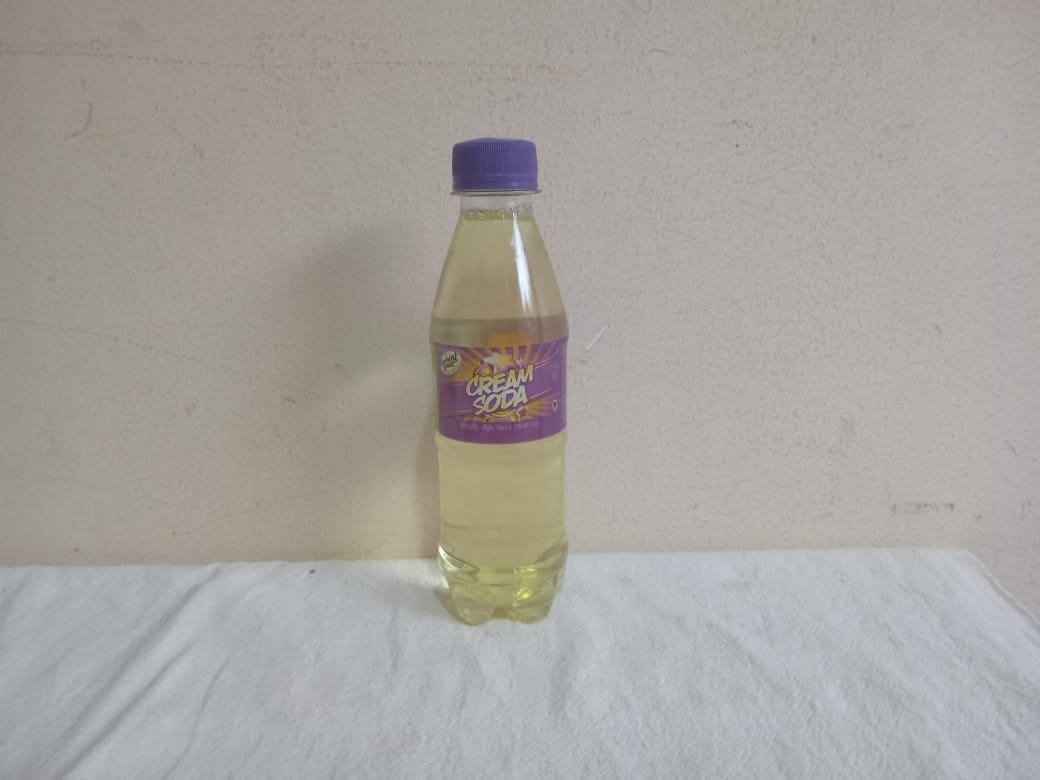Xs: (419, 129, 579, 638)
